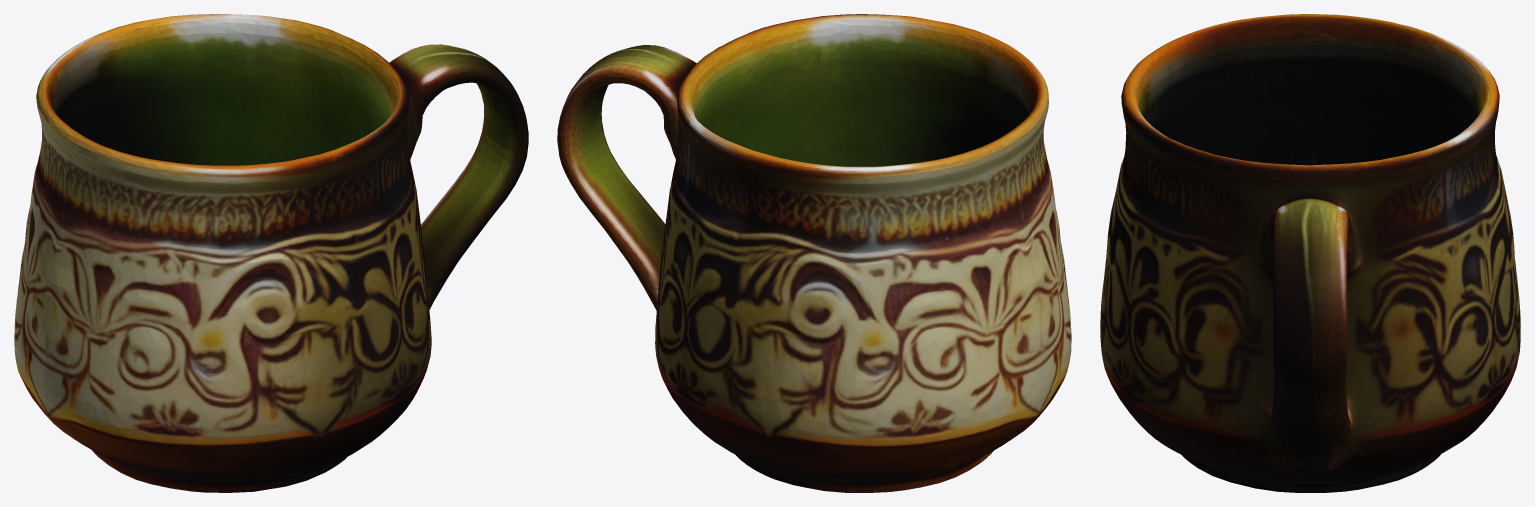
The model's file is ceramic-mug-used-rustic-worn.jpeg.glb.
3 views of the same model, side by side, from view 1: azimuth 30°, elevation 25°; view 2: azimuth 150°, elevation 25°; view 3: azimuth 270°, elevation 25° (orthographic).
Parts seen in each view (by area): view 1: world; view 2: world; view 3: world.
Part boxes in pixels (x1,y1,x2,y2): world: (14, 14, 528, 492); world: (557, 14, 1071, 492); world: (1100, 14, 1520, 492).
Bounding box in the file's own units: 0.9993 × 0.7011 × 0.766.
Materials: 1 (1 with a texture image).
